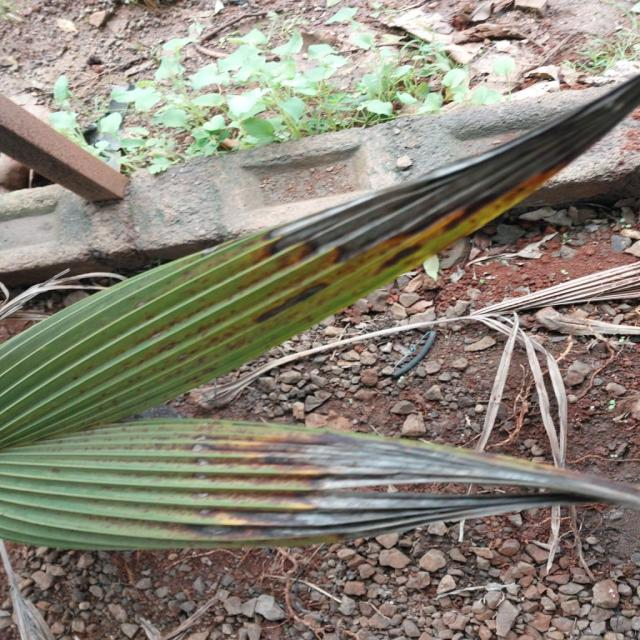gray leaf spot: (0, 71, 640, 554)
